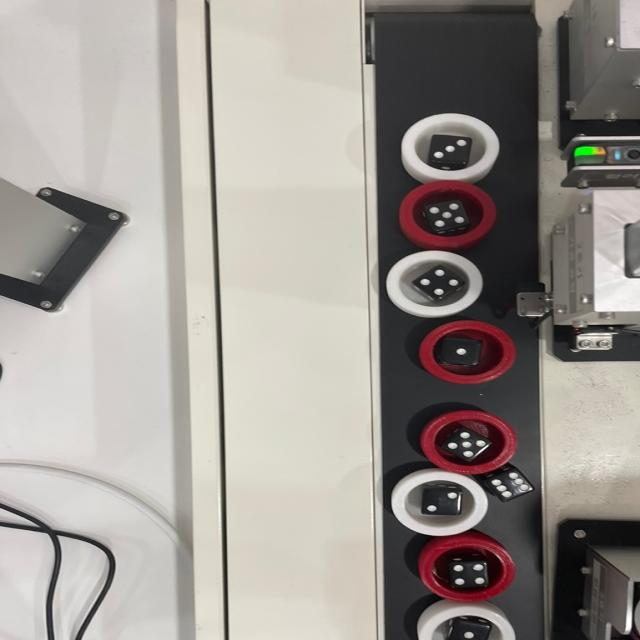DICE1: (443, 340, 476, 362), (454, 623, 486, 640)
DICE2: (423, 490, 462, 512)
DICE3: (428, 137, 466, 162)
DICE4: (420, 269, 460, 296), (450, 562, 488, 586)
DICE5: (421, 204, 468, 231), (445, 430, 487, 457)
DICE6: (490, 474, 536, 497)
RedChip: (400, 182, 497, 246), (418, 540, 516, 602), (423, 322, 515, 385), (423, 414, 515, 468)
WhiteChip: (405, 113, 497, 181), (390, 251, 484, 316), (394, 474, 488, 535), (422, 609, 516, 640)
